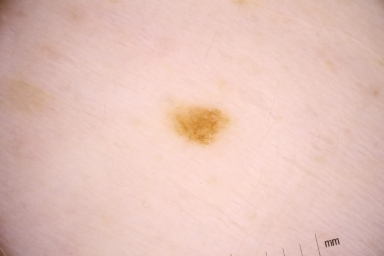nevus: (173, 102, 231, 141)
